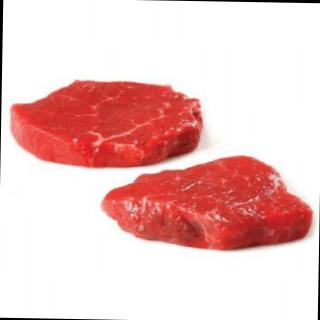Daging Sapi: (103, 154, 314, 253), (9, 78, 204, 168)
